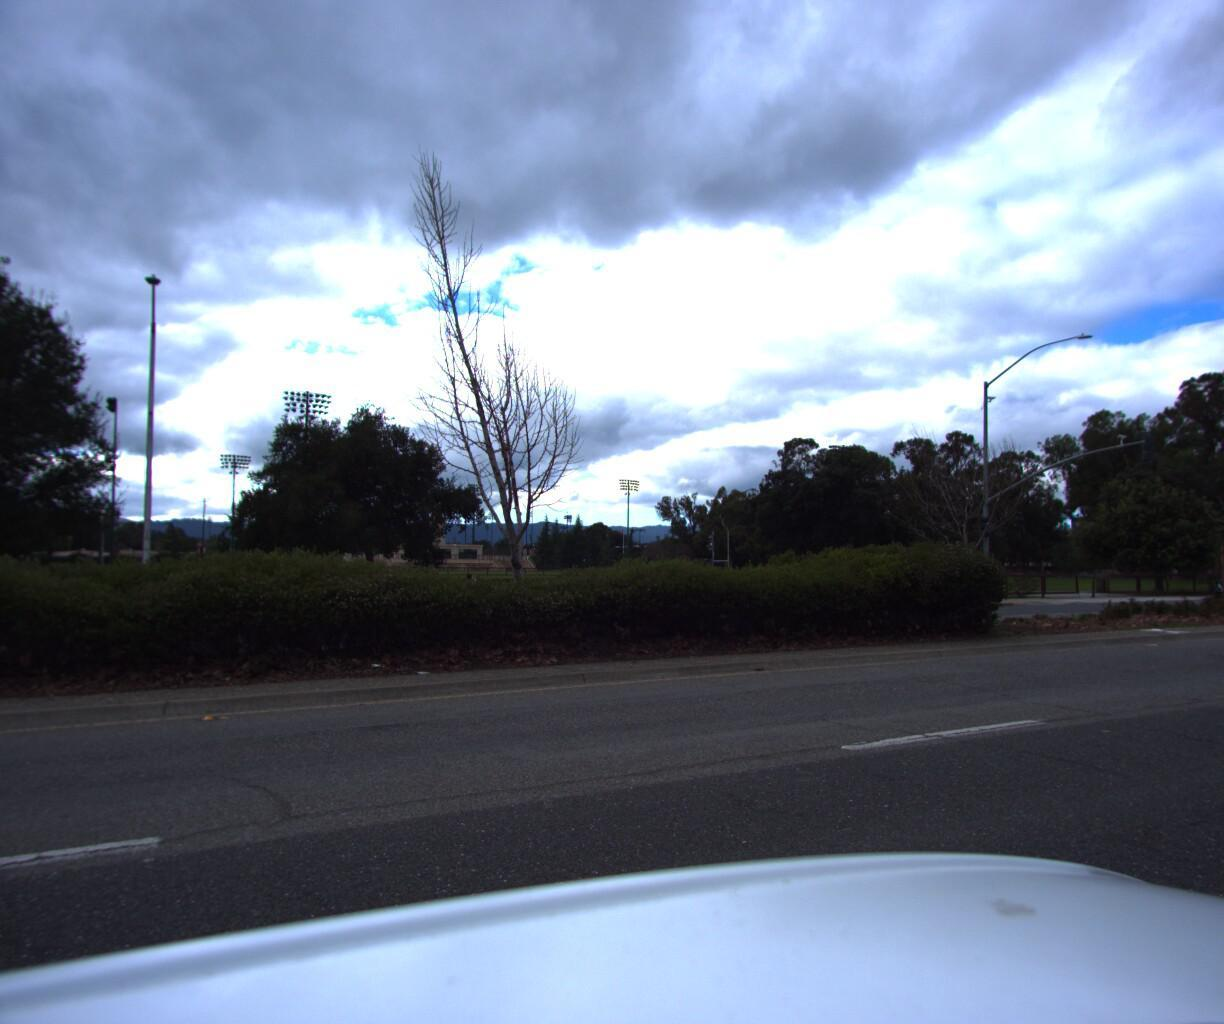car: (1196, 561, 1224, 592)
